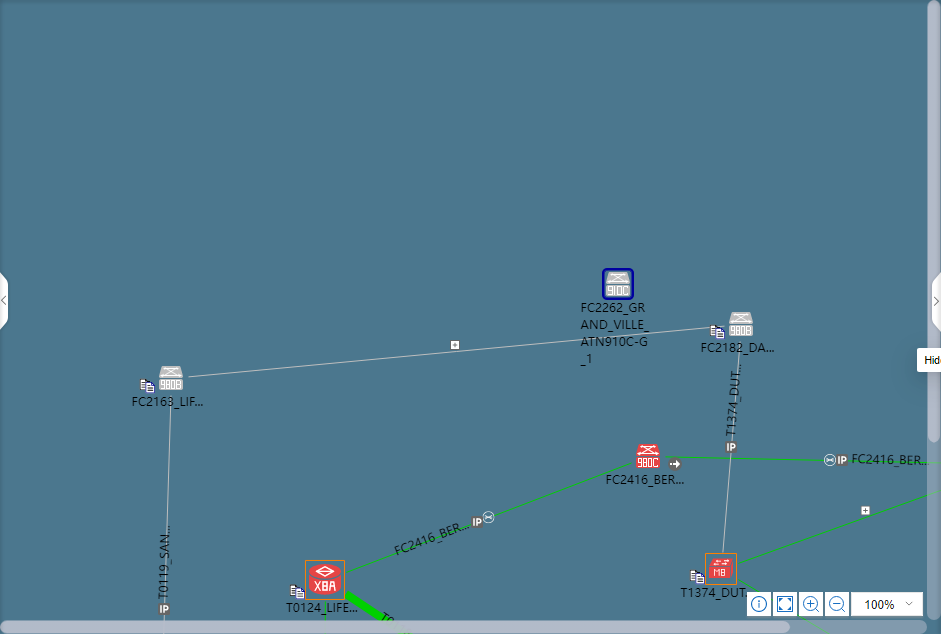ATN_Gray: (603, 269, 633, 298), (159, 367, 182, 391), (729, 313, 752, 337)
ATN_Red: (636, 445, 659, 469)
Link_Gray: (188, 325, 725, 378), (721, 342, 741, 553), (163, 395, 172, 621)
Link_Green: (347, 461, 632, 576), (740, 489, 940, 564), (665, 455, 927, 464), (345, 590, 393, 621), (739, 577, 766, 591)
Router_Red: (305, 562, 344, 600)
Switch_Red: (708, 559, 734, 580)
